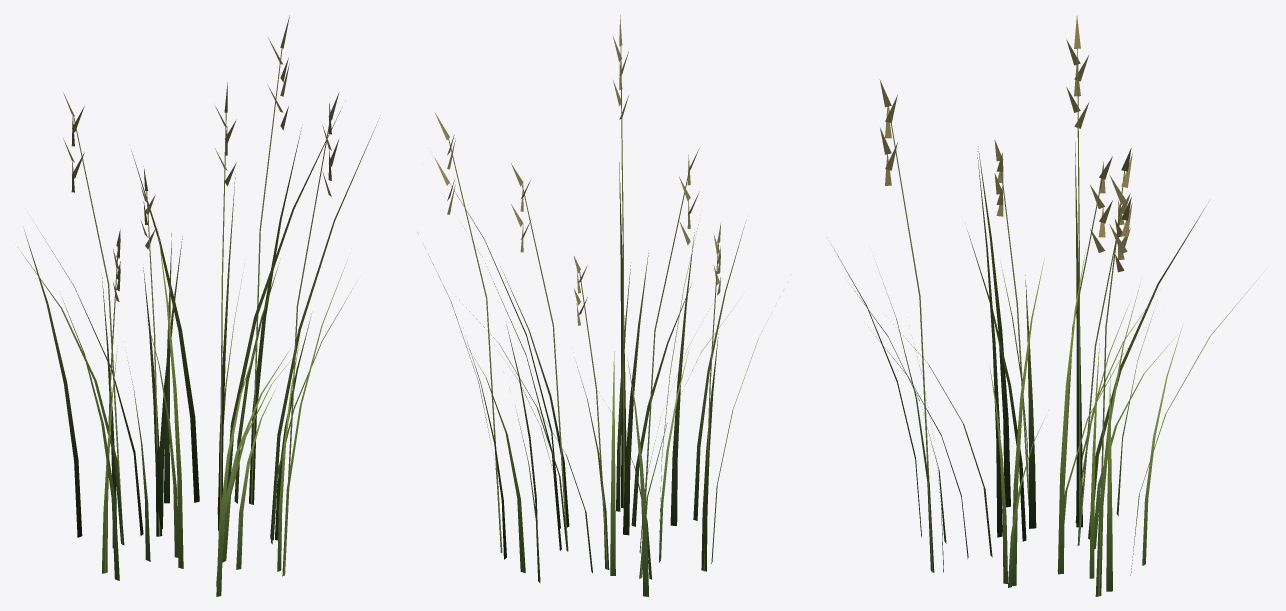
Rendered from grass-meadow-b.lod0.glb.
3 views of the same model, side by side, from view 1: azimuth 30°, elevation 25°; view 2: azimuth 150°, elevation 25°; view 3: azimuth 270°, elevation 25° (orthographic). The views are drawn at different scales.
Visible parts, largest first — view 1: grass-meadow-b.lod0; view 2: grass-meadow-b.lod0; view 3: grass-meadow-b.lod0.
Boxes of the visible parts, <box> form: grass-meadow-b.lod0: <box>20,15,380,596</box>; grass-meadow-b.lod0: <box>417,15,787,596</box>; grass-meadow-b.lod0: <box>831,15,1258,596</box>.
Bounding box in the file's own units: 0.7297 × 0.9665 × 0.7712.
